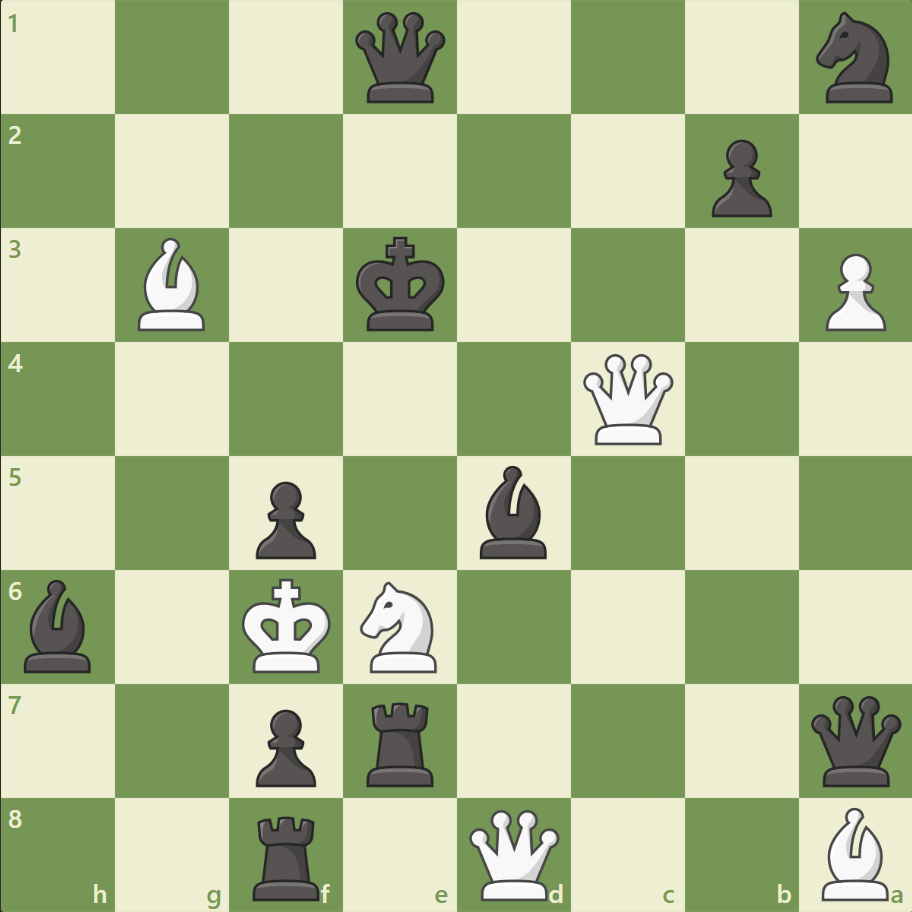B: (812, 801, 896, 904), (131, 233, 215, 336)
K: (238, 571, 338, 679)
N: (351, 575, 449, 677)
P: (815, 246, 889, 337)
Q: (578, 349, 677, 449), (464, 804, 563, 903)
b: (471, 460, 555, 563), (17, 574, 101, 676)
k: (351, 231, 451, 339)
n: (806, 7, 903, 110)
p: (247, 700, 322, 791), (247, 473, 322, 564), (701, 132, 776, 223)
q: (805, 690, 904, 789), (351, 9, 450, 108)
r: (246, 806, 329, 904), (360, 693, 442, 790)
